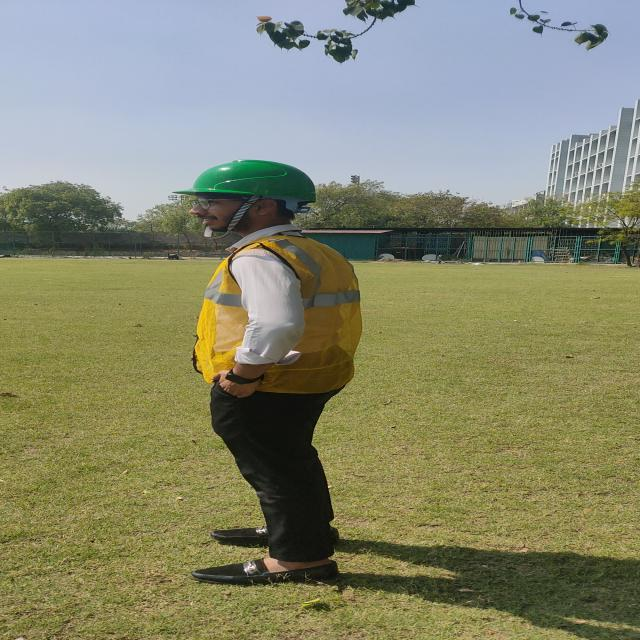safe: (173, 161, 361, 581)
